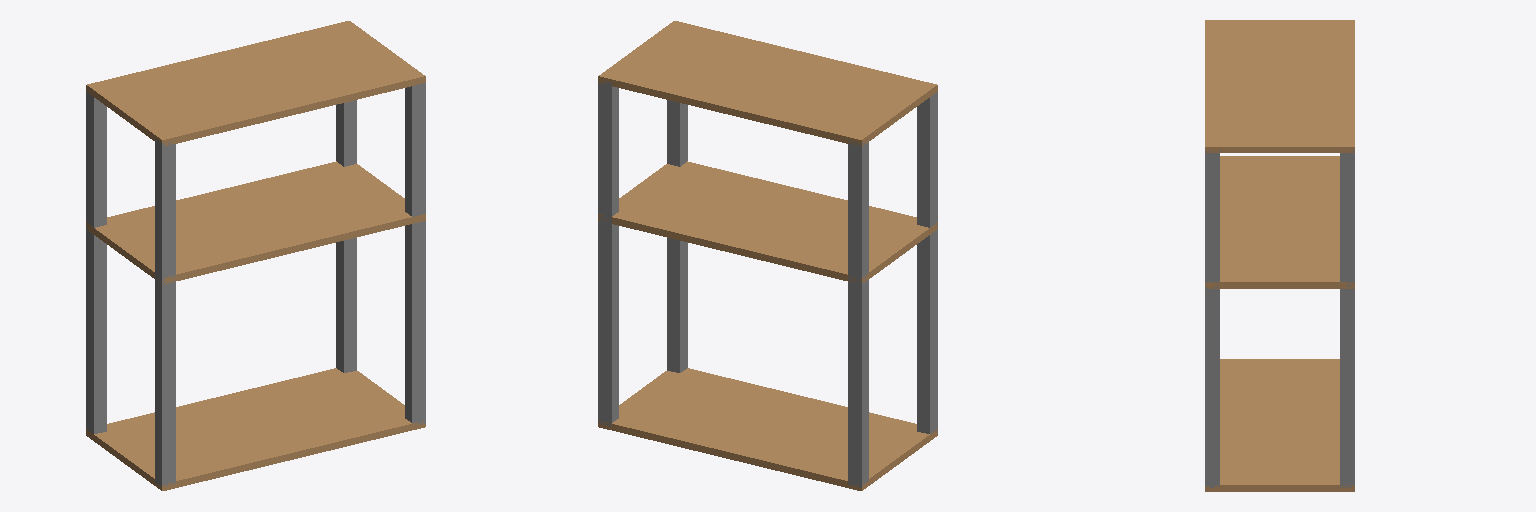
URDF robot description (triple_shelf):
<?xml version="1.0"?>
<robot name="triple_shelf">
  <!--
    三层架子（three-layer shelf, single link）
    - Overall size: 0.8 x 0.4 x 1.0 (m)
    - Boards thickness: 0.02 m
    - Shelf centers (z): 0.08, 0.5, 0.92 (m)
    - Posts: 4 × 0.04 x 0.04 x 1.0 m
  -->
  <link name="shelf_link">
    <inertial>
      <origin xyz="0 0 0.500" rpy="0 0 0"/>
      <mass value="14.0"/>
      <inertia ixx="1.0" ixy="0" ixz="0" iyy="1.0" iyz="0" izz="1.6"/>
    </inertial>

    <!-- Materials registry -->
    <visual><origin xyz="0 0 0"/><geometry><box size="0.001 0.001 0.001"/></geometry><material name="wood"><color rgba="0.76 0.60 0.42 1"/></material></visual>
    <visual><origin xyz="0 0 0"/><geometry><box size="0.001 0.001 0.001"/></geometry><material name="metal"><color rgba="0.6 0.6 0.6 1"/></material></visual>

    <!-- Shelf 1 -->
    <visual name="board_1_v">
      <origin xyz="0 0 0.0" rpy="0 0 0"/>
      <geometry><box size="0.800 0.400 0.020"/></geometry>
      <material name="wood"/>
    </visual>
    <collision name="board_1_c">
      <origin xyz="0 0 0" rpy="0 0 0"/>
      <geometry><box size="0.800 0.400 0.020"/></geometry>
    </collision>

    <!-- Shelf 2 -->
    <visual name="board_2_v">
      <origin xyz="0 0 0.60" rpy="0 0 0"/>
      <geometry><box size="0.800 0.400 0.020"/></geometry>
      <material name="wood"/>
    </visual>
    <collision name="board_2_c">
      <origin xyz="0 0 0.60" rpy="0 0 0"/>
      <geometry><box size="0.800 0.400 0.020"/></geometry>
    </collision>

    <!-- Shelf 3 -->
    <visual name="board_3_v">
      <origin xyz="0 0 1.0" rpy="0 0 0"/>
      <geometry><box size="0.800 0.400 0.020"/></geometry>
      <material name="wood"/>
    </visual>
    <collision name="board_3_c">
      <origin xyz="0 0 1.0" rpy="0 0 0"/>
      <geometry><box size="0.800 0.400 0.020"/></geometry>
    </collision>

    <!-- Posts (4) -->
    <visual name="post_lf_v"><origin xyz="-0.380 0.180 0.500"/><geometry><box size="0.040 0.040 1.000"/></geometry><material name="metal"/></visual>
    <collision name="post_lf_c"><origin xyz="-0.380 0.180 0.500"/><geometry><box size="0.040 0.040 1.000"/></geometry></collision>

    <visual name="post_rf_v"><origin xyz="0.380 0.180 0.500"/><geometry><box size="0.040 0.040 1.000"/></geometry><material name="metal"/></visual>
    <collision name="post_rf_c"><origin xyz="0.380 0.180 0.500"/><geometry><box size="0.040 0.040 1.000"/></geometry></collision>

    <visual name="post_lr_v"><origin xyz="-0.380 -0.180 0.500"/><geometry><box size="0.040 0.040 1.000"/></geometry><material name="metal"/></visual>
    <collision name="post_lr_c"><origin xyz="-0.380 -0.180 0.500"/><geometry><box size="0.040 0.040 1.000"/></geometry></collision>

    <visual name="post_rr_v"><origin xyz="0.380 -0.180 0.500"/><geometry><box size="0.040 0.040 1.000"/></geometry><material name="metal"/></visual>
    <collision name="post_rr_c"><origin xyz="0.380 -0.180 0.500"/><geometry><box size="0.040 0.040 1.000"/></geometry></collision>

  </link>
</robot>

--- Facts derived from the render (not from the file) ---
The picture shows the robot from 3 angles, left to right: view 1: azimuth 30°, elevation 25°; view 2: azimuth 150°, elevation 25°; view 3: azimuth 270°, elevation 25°; orthographic projection.
Robot: triple_shelf — 1 links, 0 joints (none); root link shelf_link; default pose: every joint at zero.
Links seen in each view (by area): view 1: shelf_link; view 2: shelf_link; view 3: shelf_link.
Boxes of the visible links, <box> form: shelf_link: <box>86,21,425,490</box>; shelf_link: <box>598,21,937,490</box>; shelf_link: <box>1205,20,1354,491</box>.
Size in the robot's own frame: 0.8 by 0.4 by 1.02 metres.
Geometry: primitives only (box / cylinder / sphere), no mesh files.